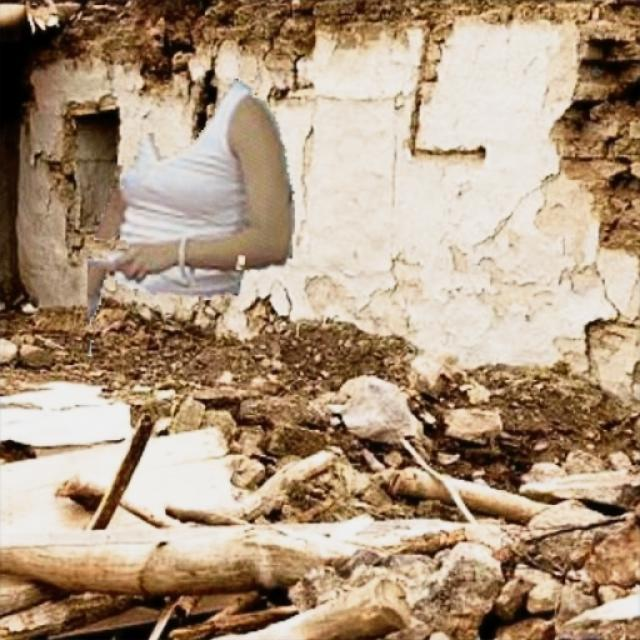Person in Rubble: (88, 79, 294, 355)
